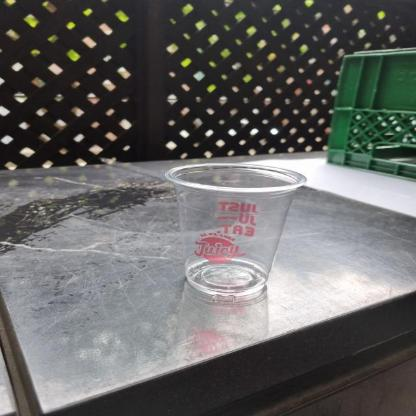Plastic Cup: (167, 164, 305, 300)
